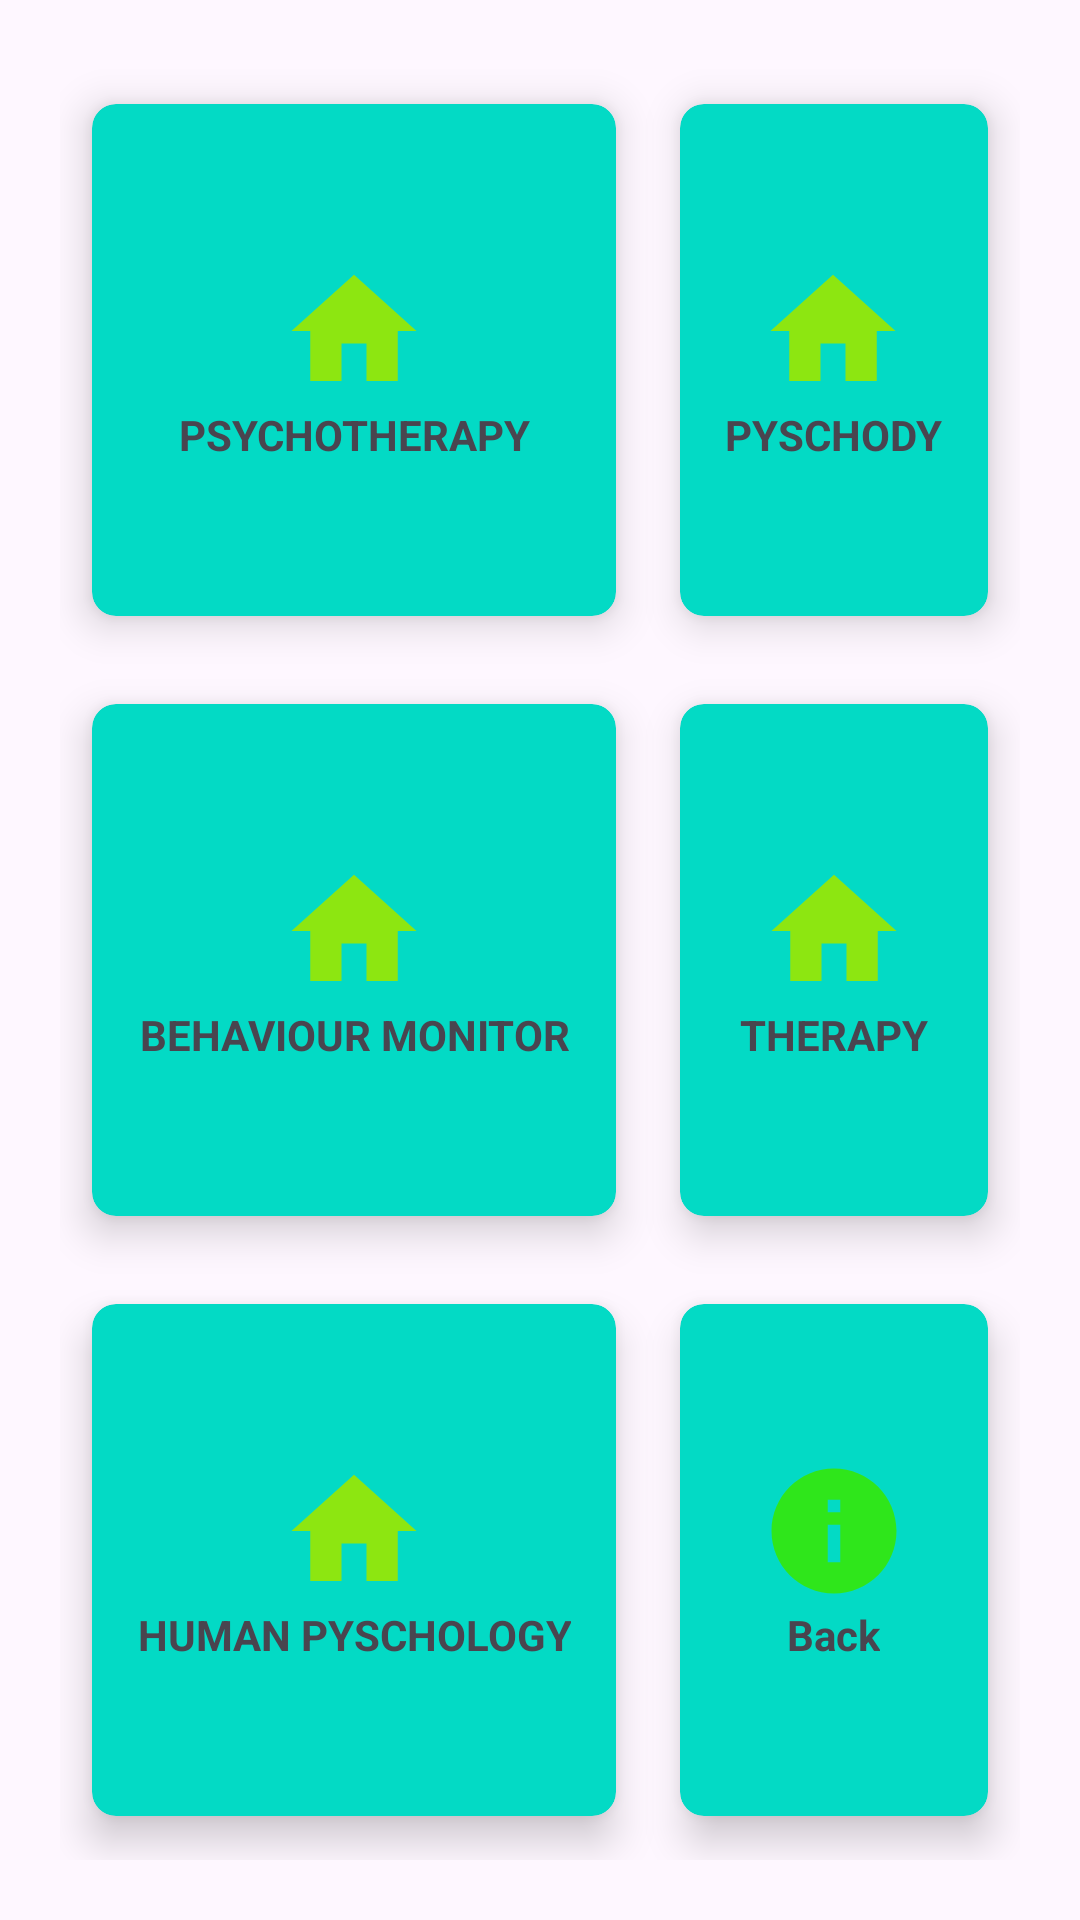

Icons on this 1080 x 1920 Android screen, each with the point to tap as (x,y):
home: (354,328), (833,328), (354,928), (834,928), (354,1528)
info: (834,1531)
